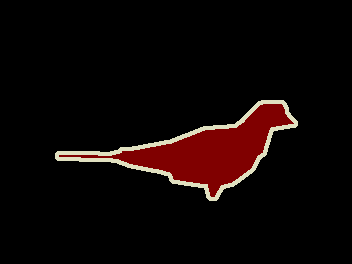bird: (59, 102, 296, 196)
